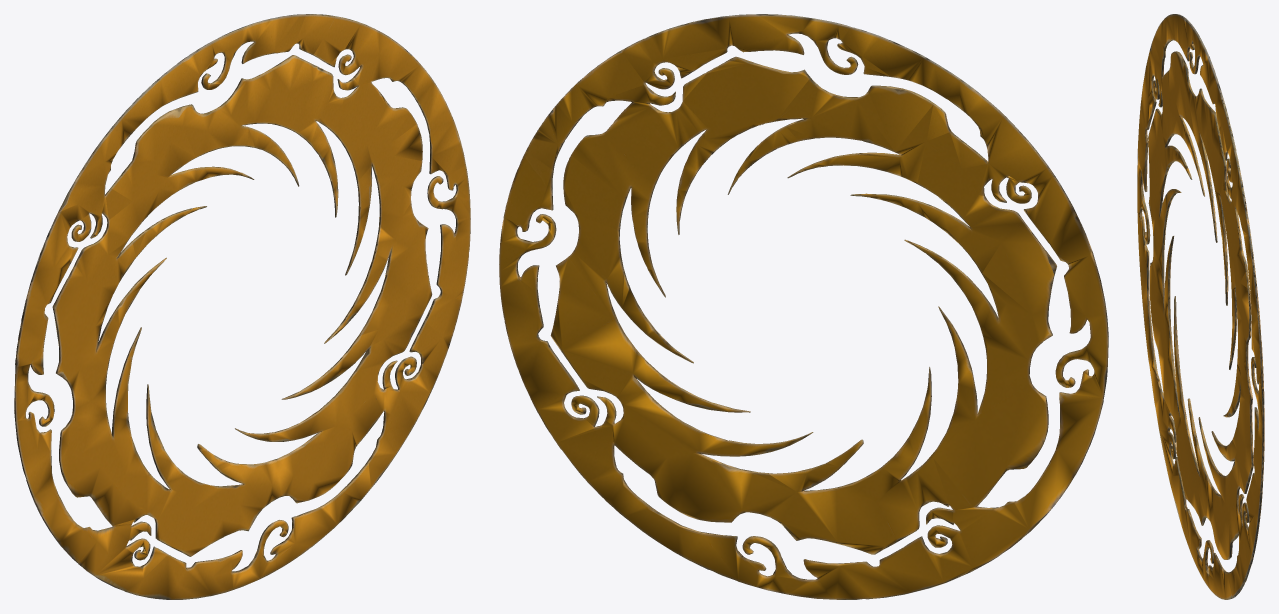
Rendered from 05-sunbird.glb.
3 views of the same model, side by side, from view 1: azimuth 30°, elevation 25°; view 2: azimuth 150°, elevation 25°; view 3: azimuth 270°, elevation 25° (orthographic). The views are drawn at different scales.
Parts seen in each view (by area): view 1: Meshy_AI_Golden_Vortex_Emblem_0817192120_texture; view 2: Meshy_AI_Golden_Vortex_Emblem_0817192120_texture; view 3: Meshy_AI_Golden_Vortex_Emblem_0817192120_texture.
Part boxes in pixels (<box>): Meshy_AI_Golden_Vortex_Emblem_0817192120_texture: <box>14,14,470,599</box>; Meshy_AI_Golden_Vortex_Emblem_0817192120_texture: <box>499,14,1108,599</box>; Meshy_AI_Golden_Vortex_Emblem_0817192120_texture: <box>1137,14,1264,599</box>.
Size of the model in its own units: 0.5464 by 0.5594 by 0.1212.
1 material, 1 textured.
